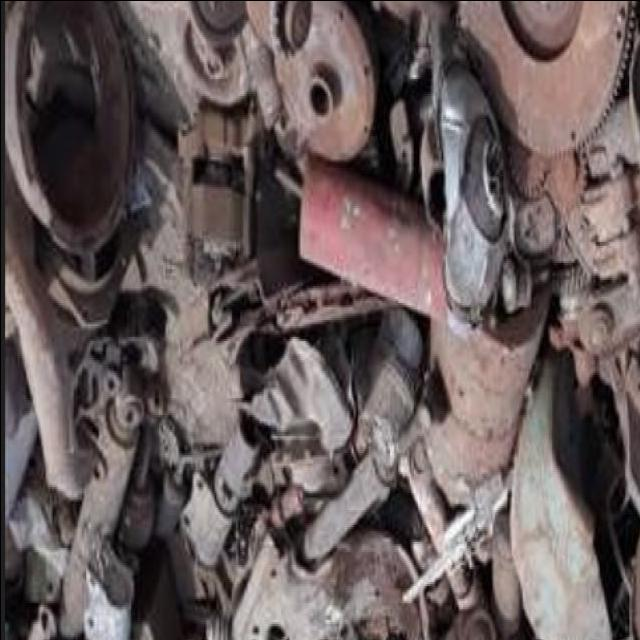cylinder: (299, 155, 446, 318)
